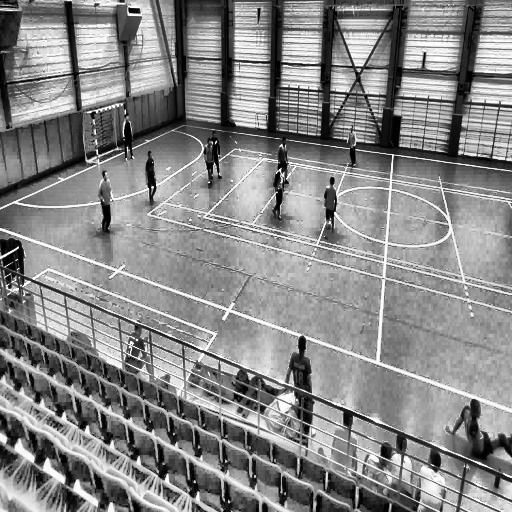ball: (327, 221, 332, 230)
player: (98, 168, 114, 235), (323, 175, 338, 239), (272, 159, 286, 221), (277, 133, 292, 187), (145, 150, 158, 206), (203, 136, 215, 188), (122, 112, 134, 162), (211, 132, 222, 181), (346, 124, 357, 168)
